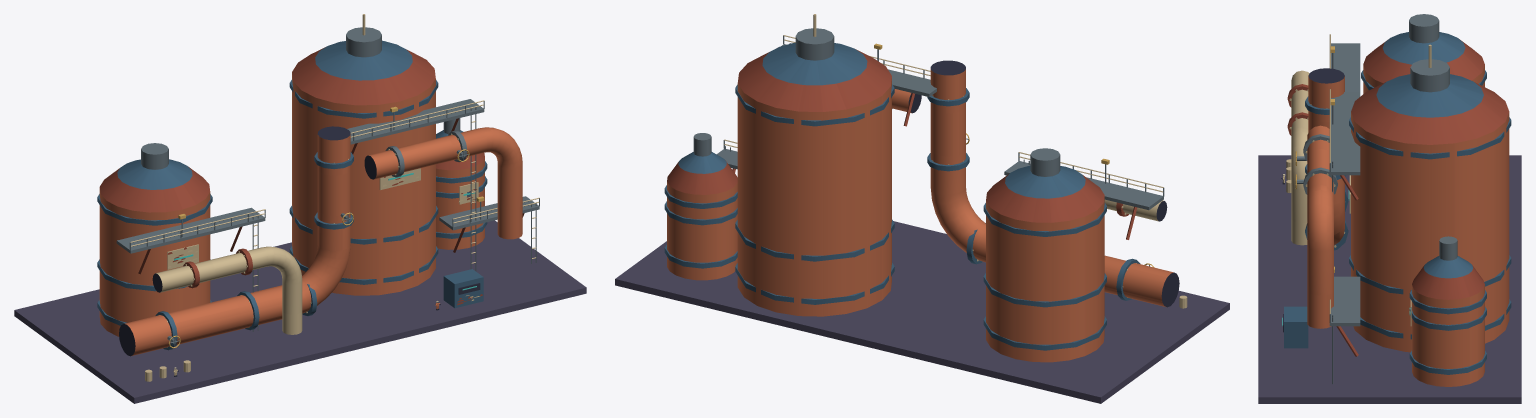
The model's file is pipe-bank.glb.
3 views of the same model, side by side, from view 1: azimuth 30°, elevation 25°; view 2: azimuth 150°, elevation 25°; view 3: azimuth 270°, elevation 25° (orthographic). The views are drawn at different scales.
Parts seen in each view (by area): view 1: pipe-bank; view 2: pipe-bank; view 3: pipe-bank.
Part boxes in pixels (box(x1,y1,x2,y2)): pipe-bank: box(14, 14, 586, 403); pipe-bank: box(615, 14, 1229, 403); pipe-bank: box(1258, 14, 1521, 403).
Bounding box in the file's own units: 94 × 51 × 43.2.
